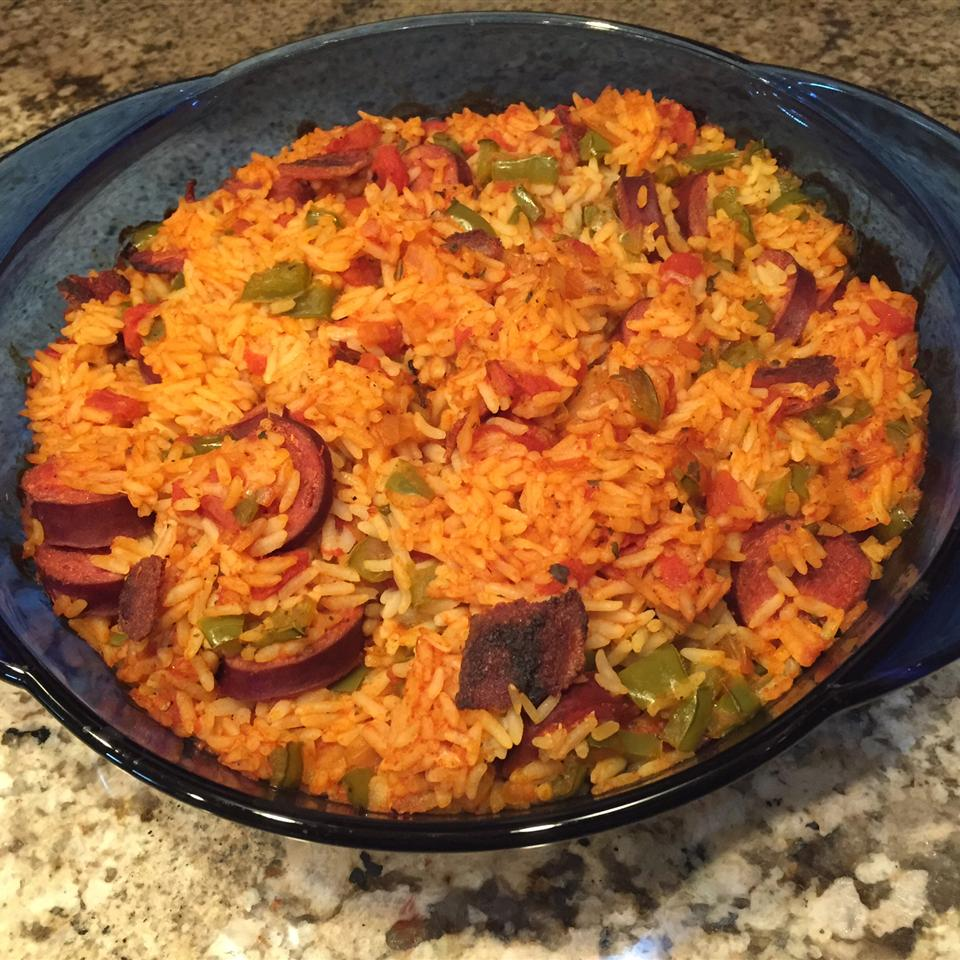Nasi Merah: (1, 51, 911, 822)
